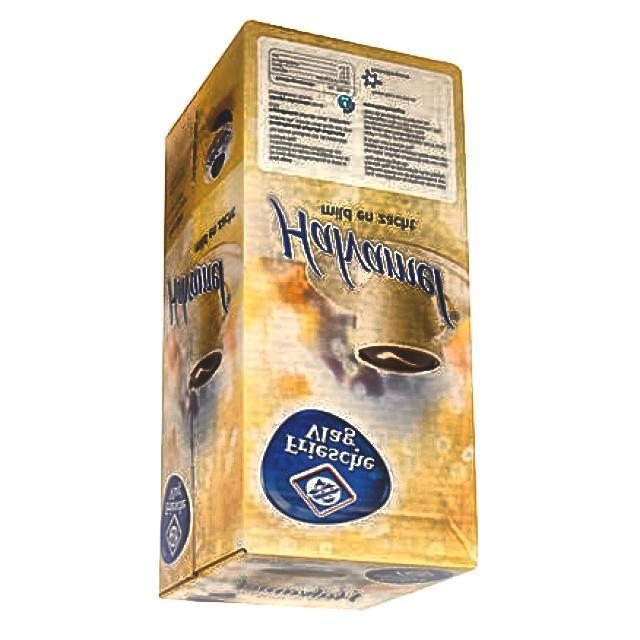cardboard: (156, 22, 478, 614)
